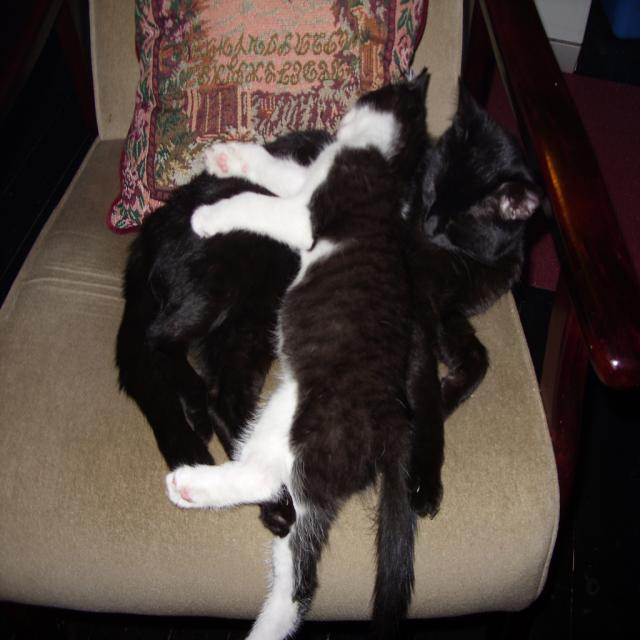Cat: (109, 61, 550, 638)
